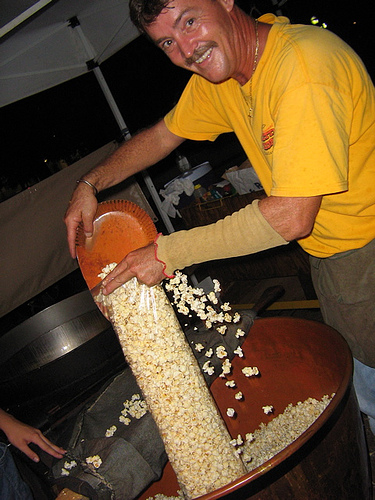corn: (57, 258, 336, 498)
